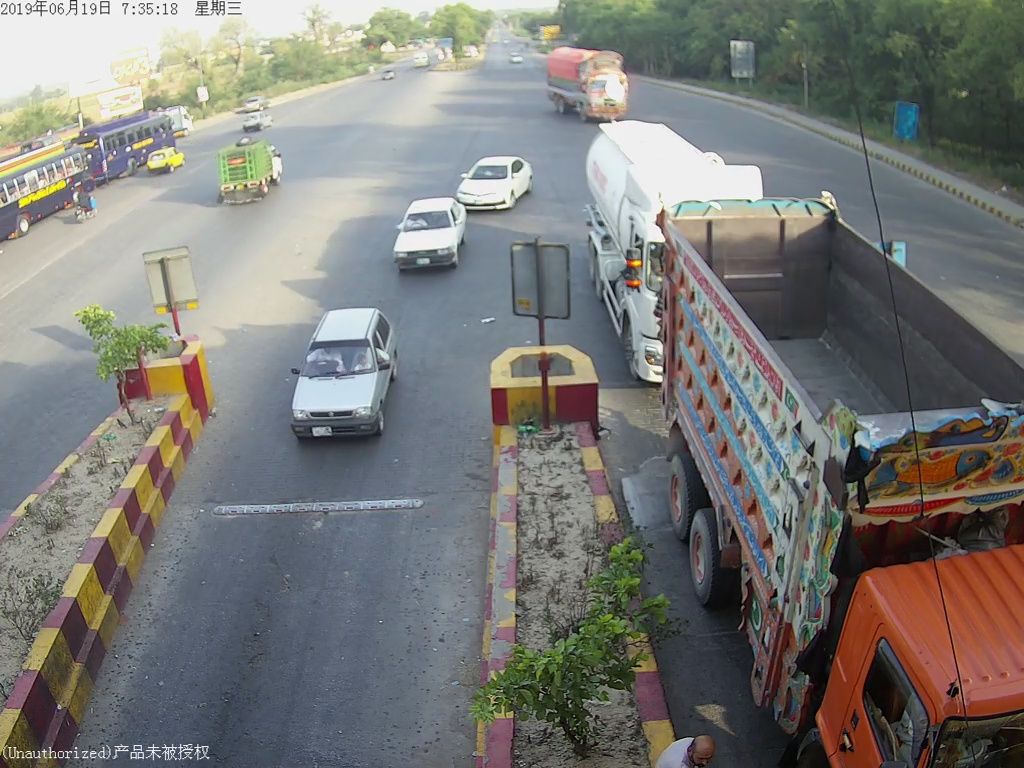Cat-1: (287, 307, 409, 442), (387, 191, 471, 271)
